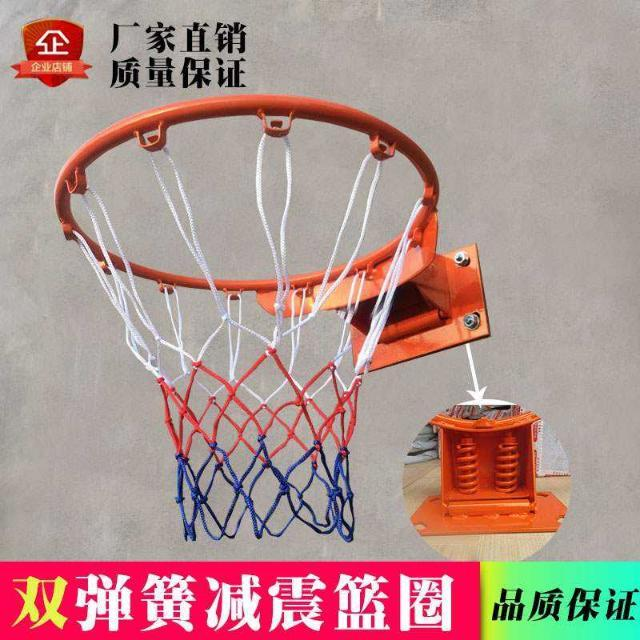rim: (55, 96, 438, 540)
